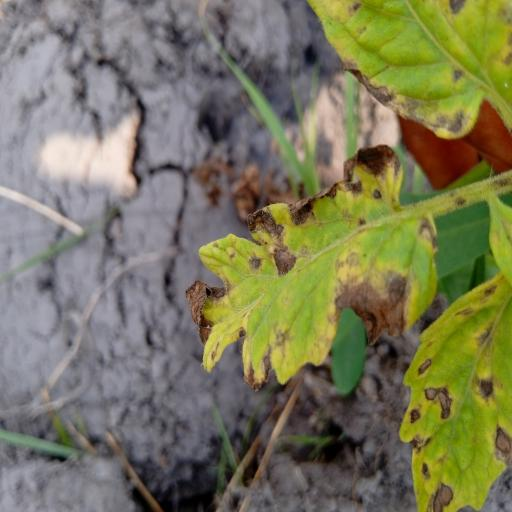Tomato_Brown_Spots: (188, 138, 444, 396), (289, 0, 512, 150), (397, 256, 512, 512)
